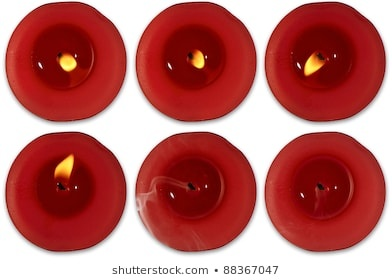fire: (52, 152, 75, 182), (303, 50, 329, 76), (55, 50, 79, 73), (185, 48, 205, 69)
